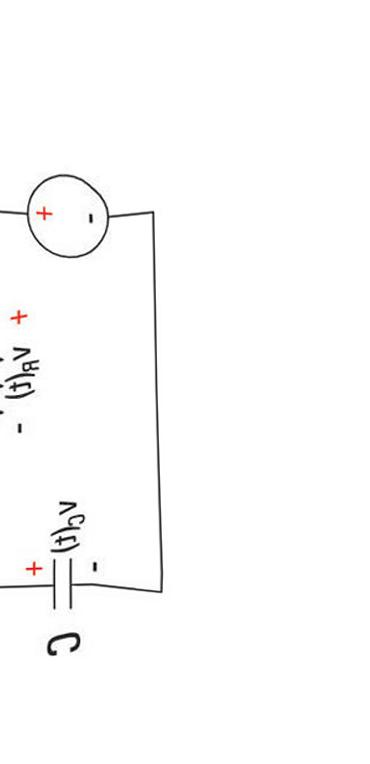Battery: (4, 153, 136, 285)
